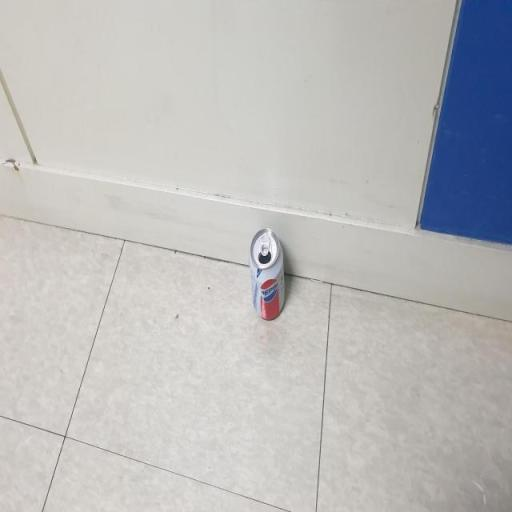metal: (242, 220, 294, 332)
